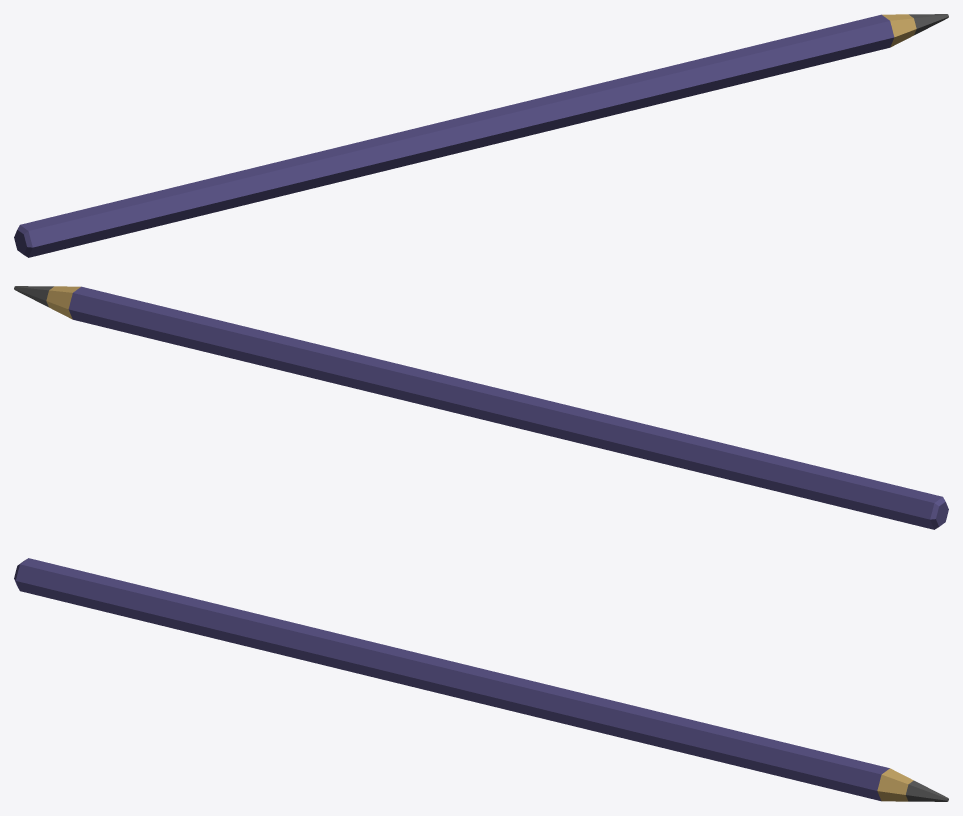
The model's file is Blyant_Lilla.fbx.
The picture shows the model from 3 angles, top to bottom: view 1: azimuth 30°, elevation 25°; view 2: azimuth 150°, elevation 25°; view 3: azimuth 330°, elevation 25°; orthographic projection.
Visible parts, largest first — view 1: Cylinder.008; view 2: Cylinder.008; view 3: Cylinder.008.
Boxes of the visible parts, box(x1,y1,x2,y2) form: Cylinder.008: box(14, 14, 948, 257); Cylinder.008: box(14, 286, 948, 529); Cylinder.008: box(14, 558, 948, 801).
Bounding box in the file's own units: 32.67 × 0.9034 × 1.04.
